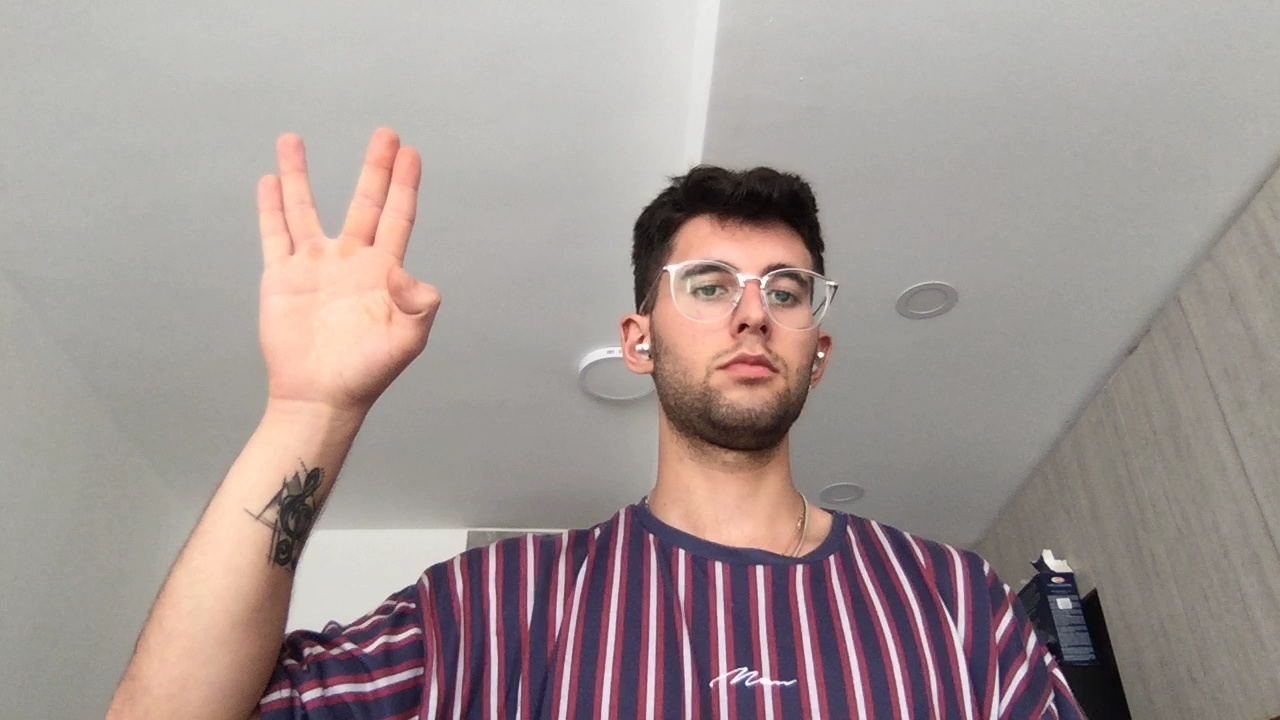LiveLong: (248, 125, 446, 406)
